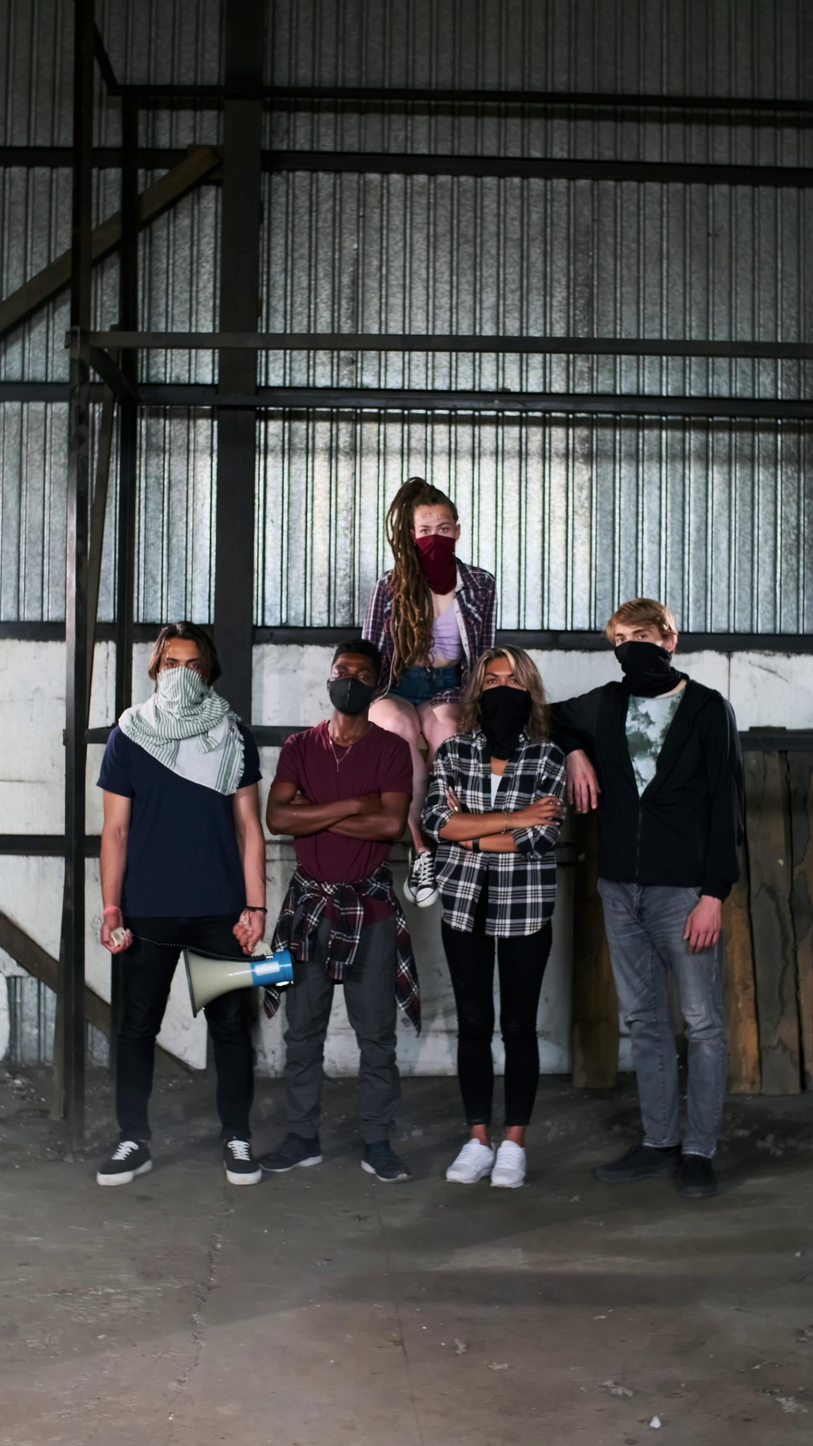mask: (477, 686, 533, 758), (613, 641, 684, 696), (149, 666, 210, 716), (414, 534, 457, 595), (325, 677, 376, 714)
person: (548, 597, 749, 1200), (93, 621, 274, 1190), (257, 639, 425, 1186), (419, 643, 568, 1190), (361, 477, 499, 905)
